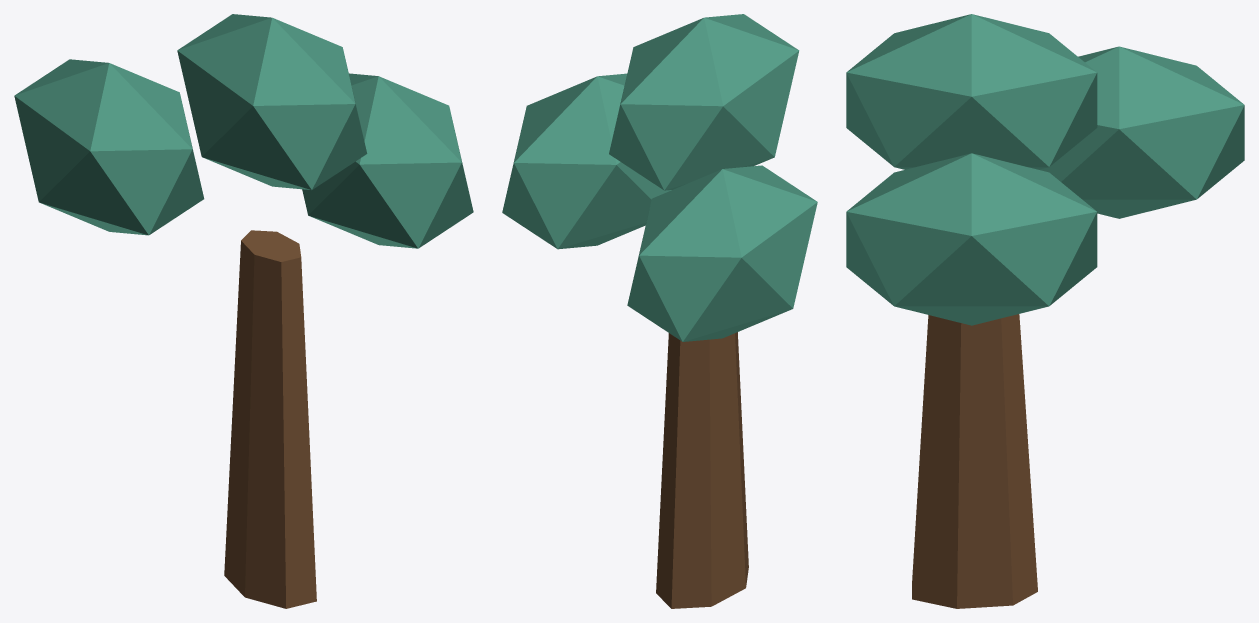
Rendered from cloudwood_tree_v001.fbx.
3 views of the same model, side by side, from view 1: azimuth 30°, elevation 25°; view 2: azimuth 150°, elevation 25°; view 3: azimuth 270°, elevation 25° (orthographic). The views are drawn at different scales.
Parts seen in each view (by area): view 1: Trunk, Canopy_Northwest, Canopy_Main, Canopy_East; view 2: Canopy_Northwest, Canopy_Main, Trunk, Canopy_East; view 3: Canopy_East, Trunk, Canopy_Main, Canopy_Northwest.
Part boxes in pixels (x1,y1,x2,y2): Trunk: (224, 230, 316, 608); Canopy_Northwest: (14, 59, 204, 235); Canopy_Main: (177, 14, 367, 190); Canopy_East: (302, 73, 473, 248); Canopy_Northwest: (627, 165, 817, 341); Canopy_Main: (609, 14, 799, 190); Trunk: (656, 332, 748, 608); Canopy_East: (502, 73, 671, 249); Canopy_East: (846, 153, 1097, 325); Trunk: (912, 314, 1037, 608); Canopy_Main: (846, 14, 1097, 169); Canopy_Northwest: (1039, 46, 1244, 218).
Bounding box in the file's own units: 1.4 × 2.24 × 1.4.
